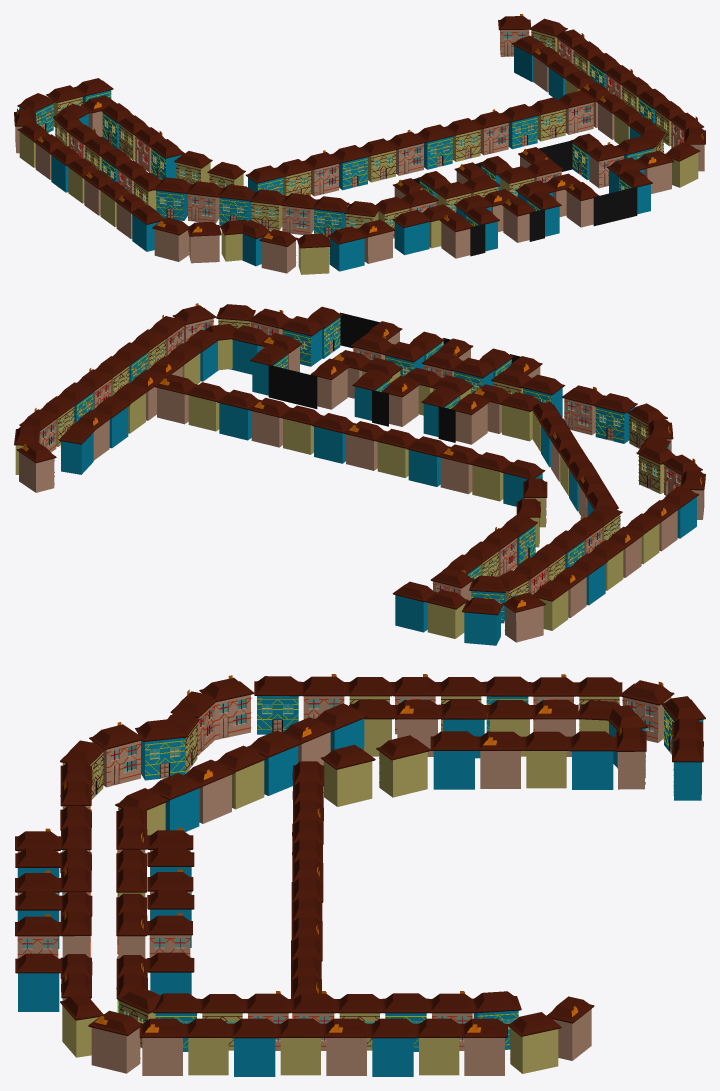
The model's file is Casas.fbx.
3 renders of one model, top to bottom at view 1: azimuth 30°, elevation 25°; view 2: azimuth 150°, elevation 25°; view 3: azimuth 270°, elevation 25°, orthographic. The views are drawn at different scales.
Parts seen in each view (by area): view 1: Casa; view 2: Casa; view 3: Casa.
Boxes of the visible parts, bbox=[...] form: Casa: bbox=[14, 14, 705, 274]; Casa: bbox=[14, 303, 705, 645]; Casa: bbox=[15, 674, 705, 1076].
Size of the model in its own units: 29952 by 2103 by 24519.
